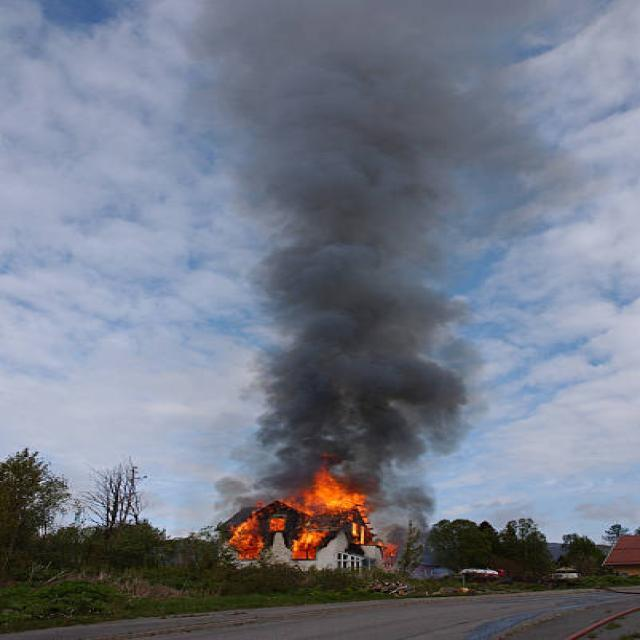Fire: (198, 2, 518, 530), (225, 466, 378, 571)
